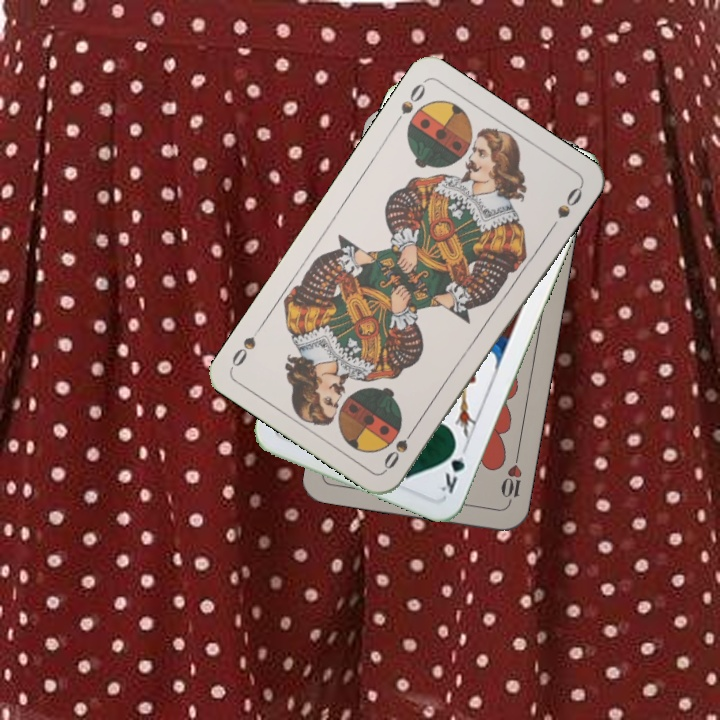GK: (434, 439, 468, 497)
H10: (496, 449, 525, 508)
SO: (379, 421, 420, 473), (389, 79, 428, 129)
